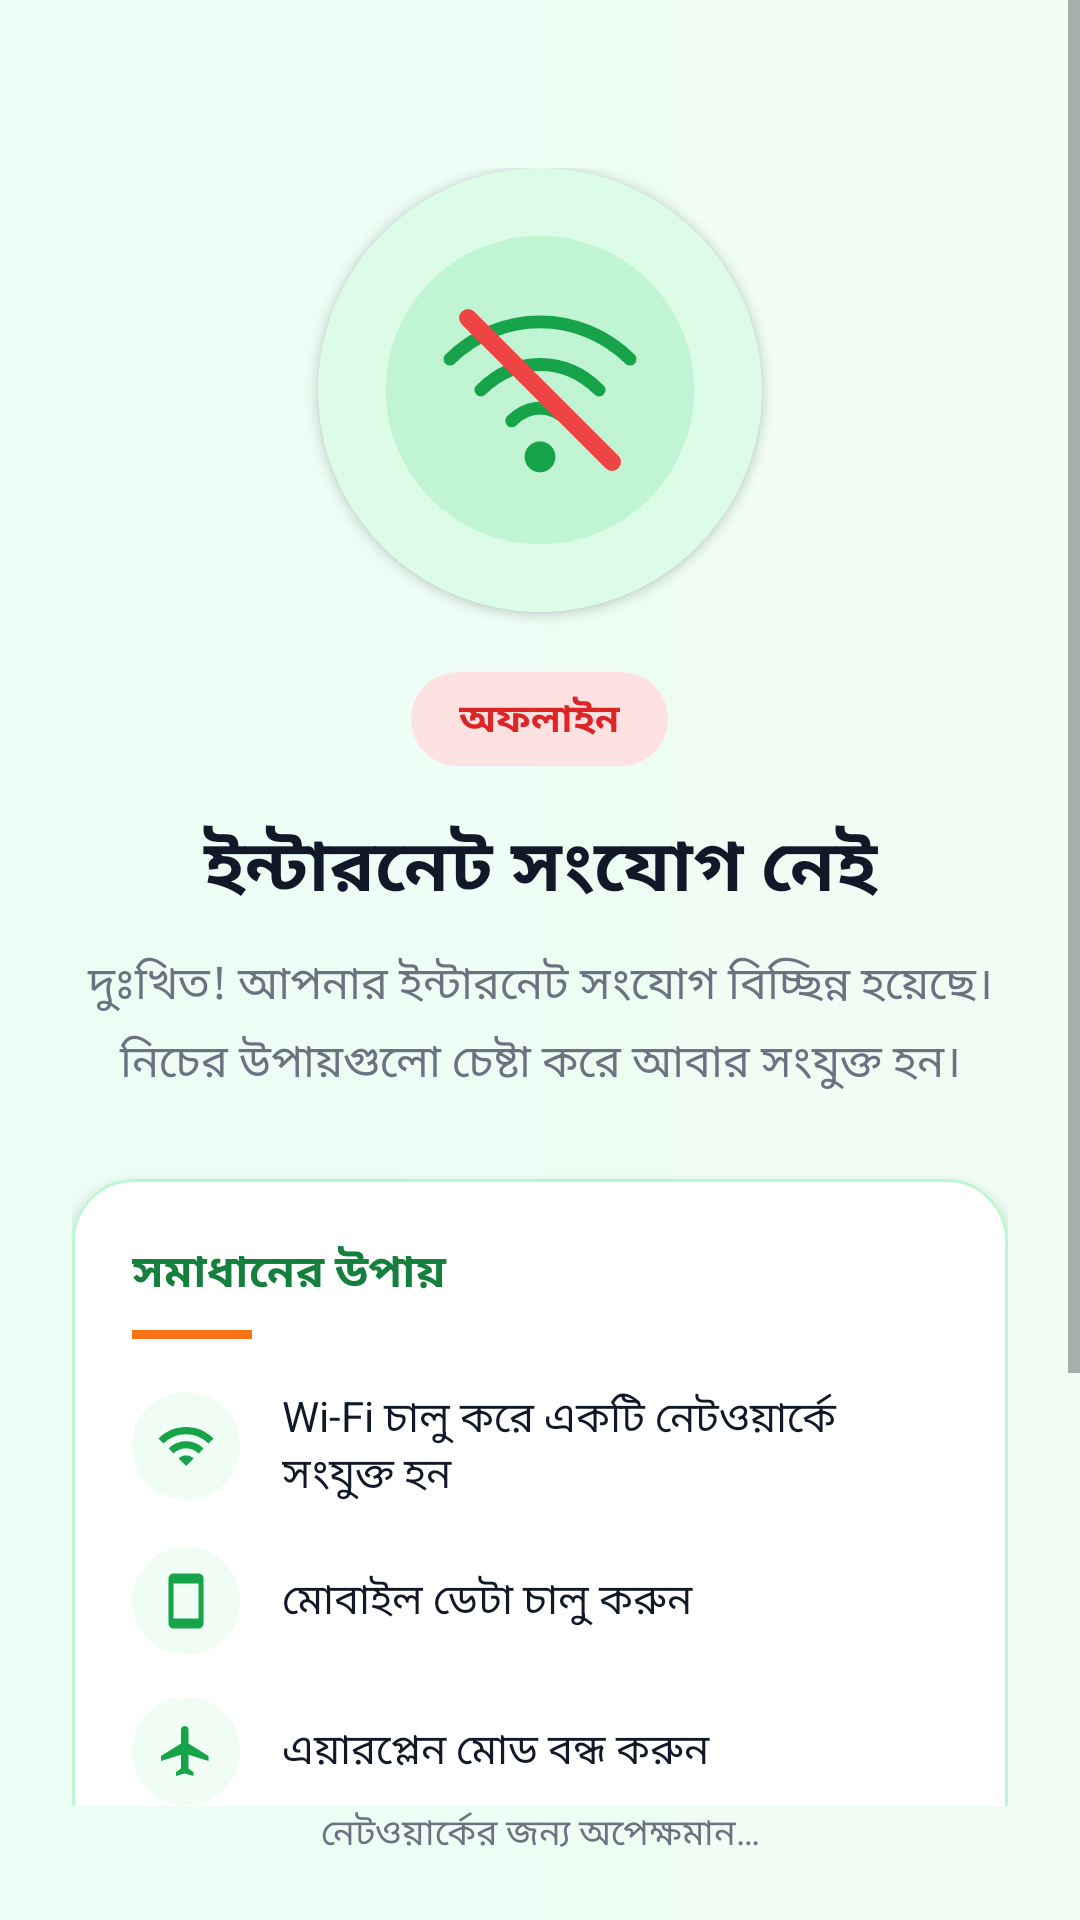

Icons on this 1080px×1920px Android screen, each with its box as [left=x1, top=y1, right=x2, bottom=y2]:
tip airplane: [left=161, top=1726, right=209, bottom=1776]
tip mobile: [left=168, top=1573, right=204, bottom=1629]
tip wifi: [left=158, top=1427, right=214, bottom=1466]
ইন্টারনেট সংযোগ নেই: [left=386, top=236, right=720, bottom=544]
